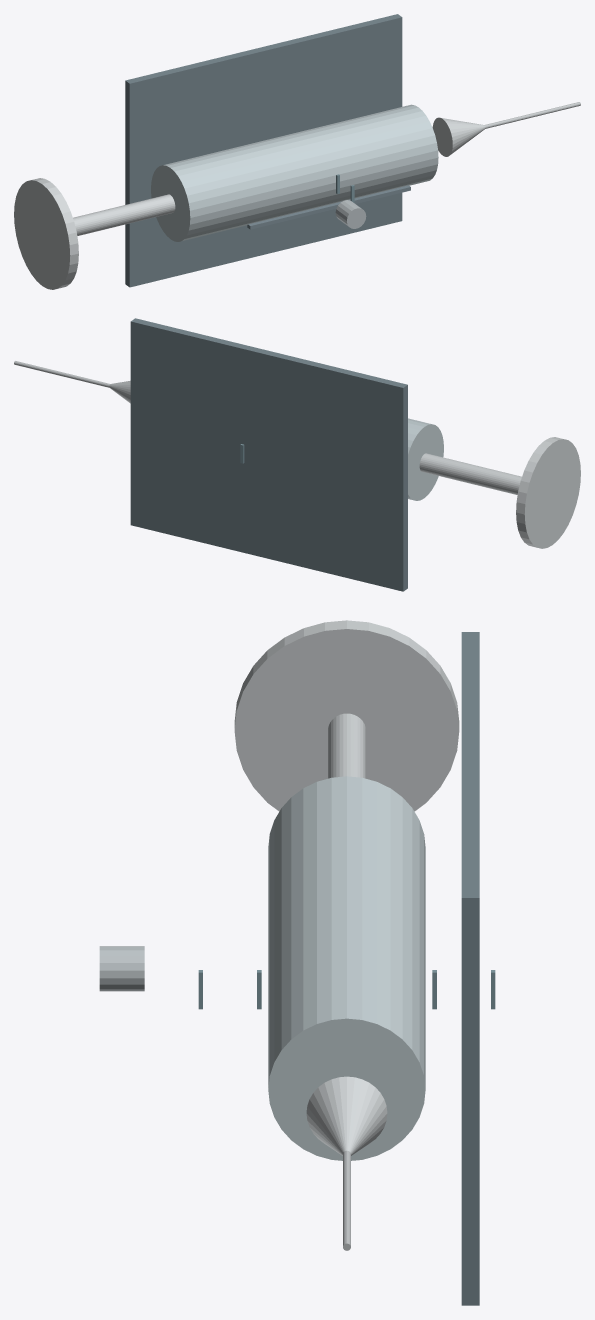
Rendered from syringe-high.glb.
3 views of the same model, one above another, from view 1: azimuth 30°, elevation 25°; view 2: azimuth 150°, elevation 25°; view 3: azimuth 270°, elevation 25° (orthographic). The views are drawn at different scales.
Parts seen in each view (by area): view 1: presentation_base_detail, barrel, plunger_disc, plunger, tip, scale, needle_hub_detail, needle; view 2: presentation_base_detail, plunger_disc, barrel, plunger, needle; view 3: barrel, plunger_disc, presentation_base_detail, tip, plunger, needle_hub_detail.
Part boxes in pixels (bbox=[...]): presentation_base_detail: bbox=[125, 14, 402, 287]; barrel: bbox=[151, 104, 438, 241]; plunger_disc: bbox=[14, 178, 78, 289]; plunger: bbox=[73, 194, 175, 235]; tip: bbox=[432, 117, 485, 156]; scale: bbox=[247, 185, 410, 229]; needle_hub_detail: bbox=[335, 200, 366, 228]; needle: bbox=[485, 102, 580, 128]; presentation_base_detail: bbox=[130, 318, 407, 591]; plunger_disc: bbox=[516, 437, 580, 548]; barrel: bbox=[408, 418, 443, 500]; plunger: bbox=[419, 453, 521, 494]; needle: bbox=[14, 361, 109, 387]; barrel: bbox=[268, 776, 425, 1160]; plunger_disc: bbox=[234, 620, 459, 811]; presentation_base_detail: bbox=[461, 632, 479, 1305]; tip: bbox=[306, 1076, 387, 1155]; plunger: bbox=[328, 713, 365, 778]; needle_hub_detail: bbox=[99, 946, 144, 991].
Bounding box in the file's own units: 5.52 × 2 × 1.76.
